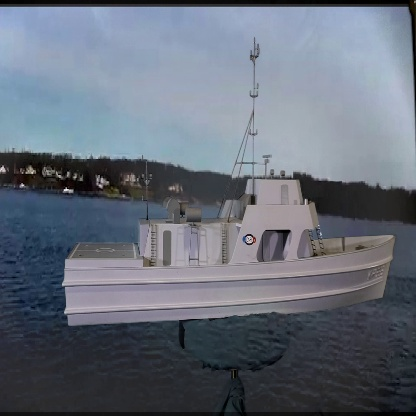YP689: (63, 34, 397, 329)
